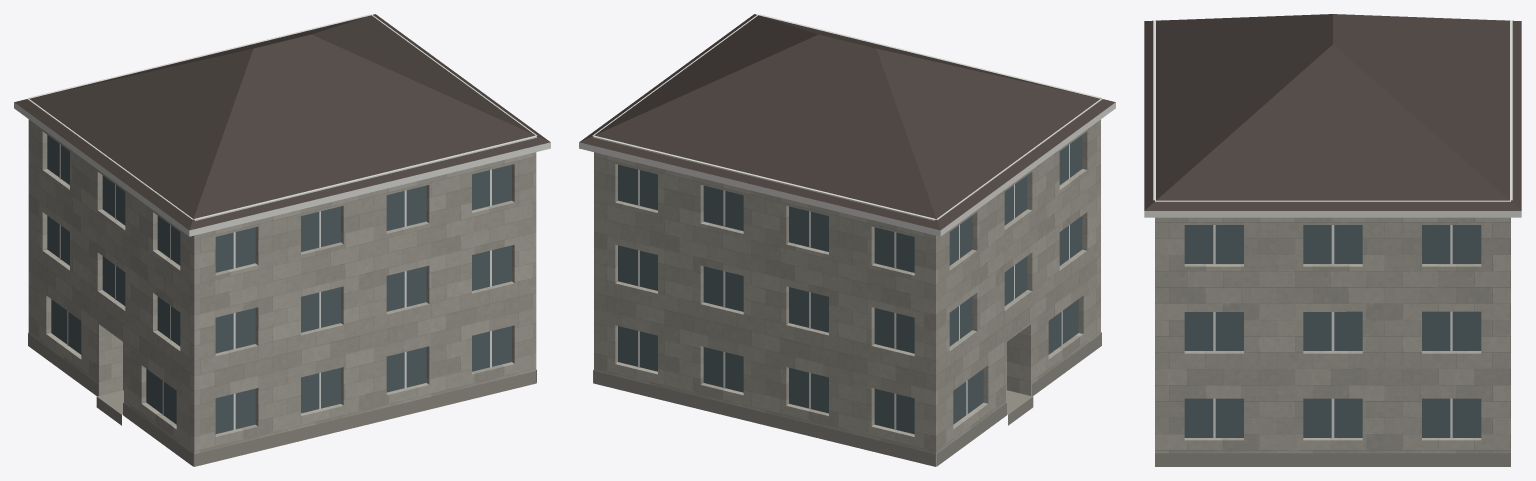
3 renders of one model, left to right at view 1: azimuth 30°, elevation 25°; view 2: azimuth 150°, elevation 25°; view 3: azimuth 270°, elevation 25°, orthographic. The views are drawn at different scales.
Parts seen in each view (by area): view 1: research__wall, research__roofAccent, research__glass, research__base, research__trim, research__frame; view 2: research__wall, research__roofAccent, research__glass, research__base, research__trim, research__frame; view 3: research__roofAccent, research__wall, research__glass, research__base, research__trim, research__frame.
Part boxes in pixels (x1,y1,x2,y2): research__wall: (28,119,536,466); research__roofAccent: (14,14,550,230); research__glass: (47,135,511,433); research__base: (28,332,536,466); research__trim: (14,14,550,236); research__frame: (59,144,491,430); research__wall: (594,119,1100,466); research__roofAccent: (579,14,1115,230); research__glass: (618,135,1082,434); research__base: (593,332,1101,466); research__trim: (579,14,1115,236); research__frame: (638,144,1069,430); research__roofAccent: (1144,14,1521,210); research__wall: (1155,217,1510,453); research__glass: (1184,225,1481,437); research__base: (1155,453,1510,466); research__trim: (1144,20,1521,217); research__frame: (1213,225,1452,438).
Bounding box in the file's own units: 15 × 13.2 × 12.6.
Materials: 9 (1 with a texture image).
